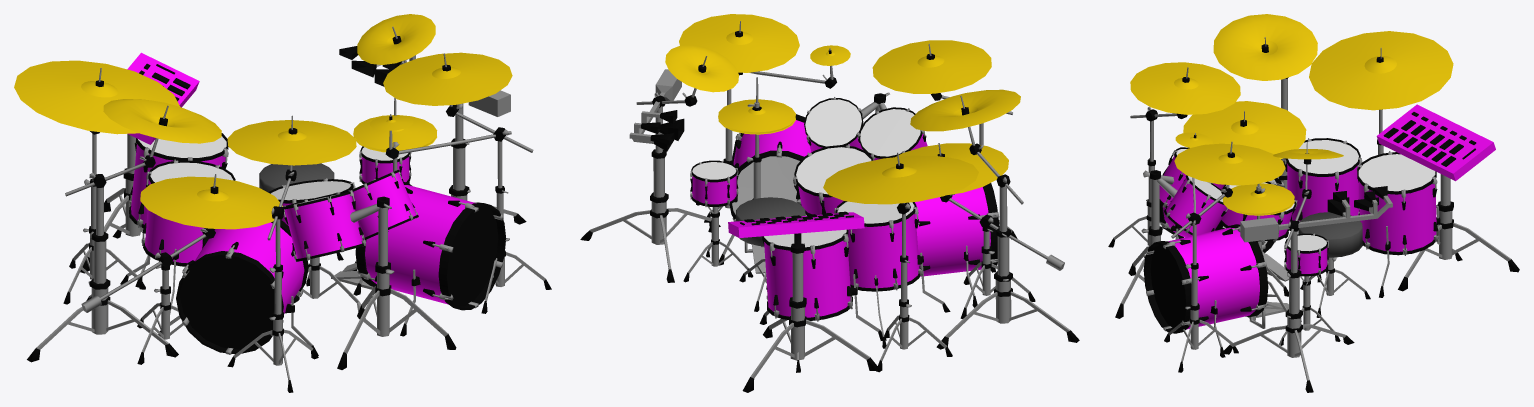
File: drum.fbx
3 renders of one model, left to right at view 1: azimuth 30°, elevation 25°; view 2: azimuth 150°, elevation 25°; view 3: azimuth 270°, elevation 25°, orthographic. The views are drawn at different scales.
Parts seen in each view (by area): view 1: drum.007; view 2: drum.007; view 3: drum.007.
Boxes of the visible parts, x1=… form: drum.007: x1=14, y1=14, x2=551, y2=392; drum.007: x1=580, y1=14, x2=1079, y2=392; drum.007: x1=1108, y1=14, x2=1519, y2=392.
Size of the model in its own units: 348 by 151 by 280.
